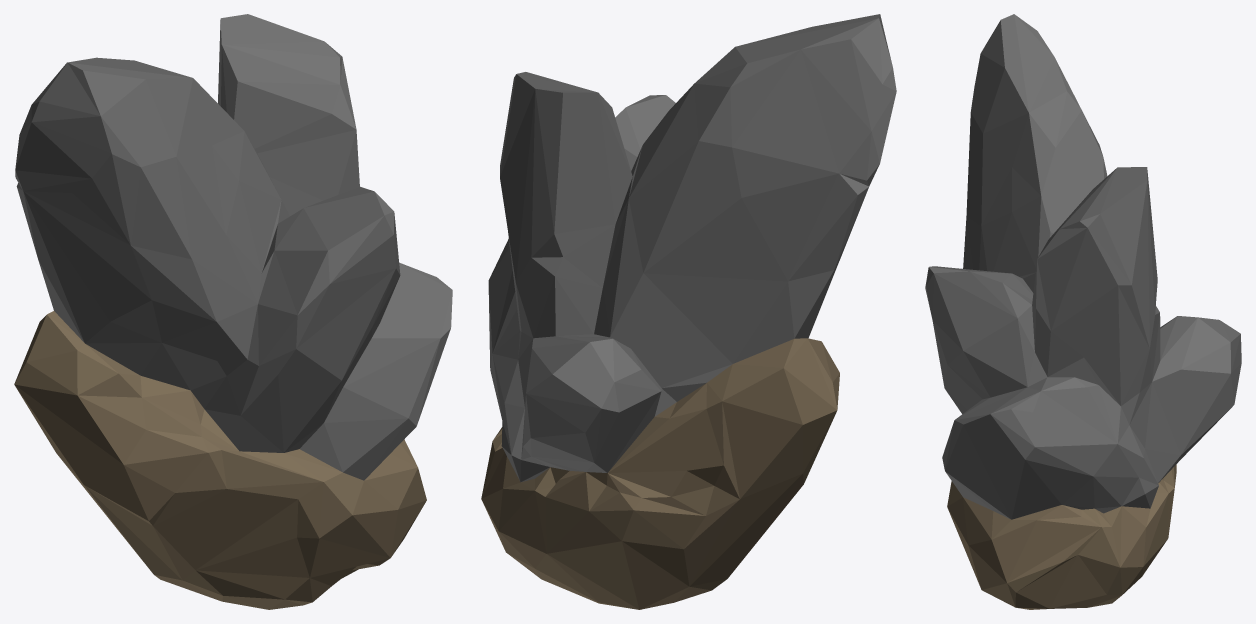
The model's file is SM_LP_StoneNode_6.fbx.
3 views of the same model, side by side, from view 1: azimuth 30°, elevation 25°; view 2: azimuth 150°, elevation 25°; view 3: azimuth 270°, elevation 25° (orthographic). The views are drawn at different scales.
Parts seen in each view (by area): view 1: SM_LP_StoneNode_6; view 2: SM_LP_StoneNode_6; view 3: SM_LP_StoneNode_6.
Boxes of the visible parts, x1,y1,x2,y2 form: SM_LP_StoneNode_6: (14, 14, 452, 609); SM_LP_StoneNode_6: (481, 14, 896, 609); SM_LP_StoneNode_6: (925, 14, 1241, 609).
Bounding box in the file's own units: 1.26 × 1.81 × 1.04.
